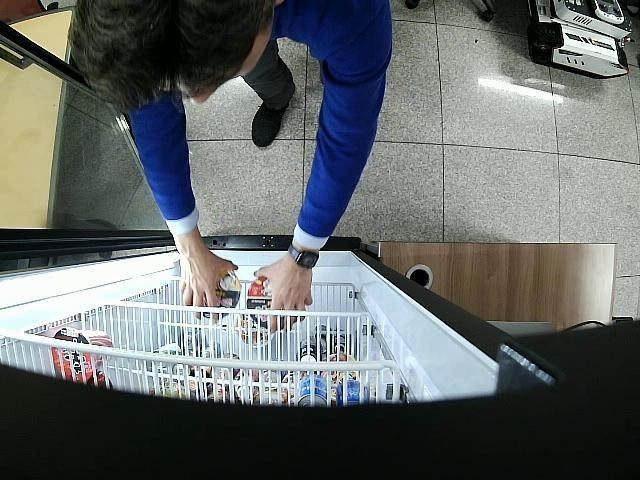07_buldak_L: (247, 276, 284, 330), (202, 270, 242, 319)
